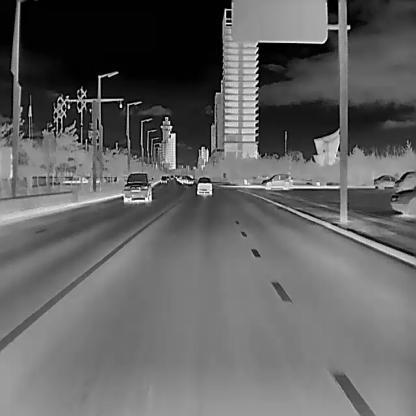car: (123, 172, 152, 203), (262, 173, 293, 189), (395, 170, 416, 191), (373, 173, 396, 189), (196, 176, 211, 195)
